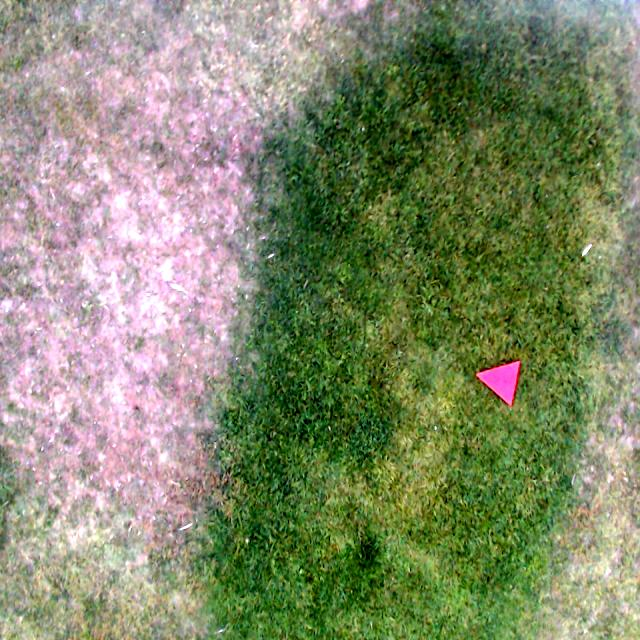red_triangle: (476, 358, 520, 407)
